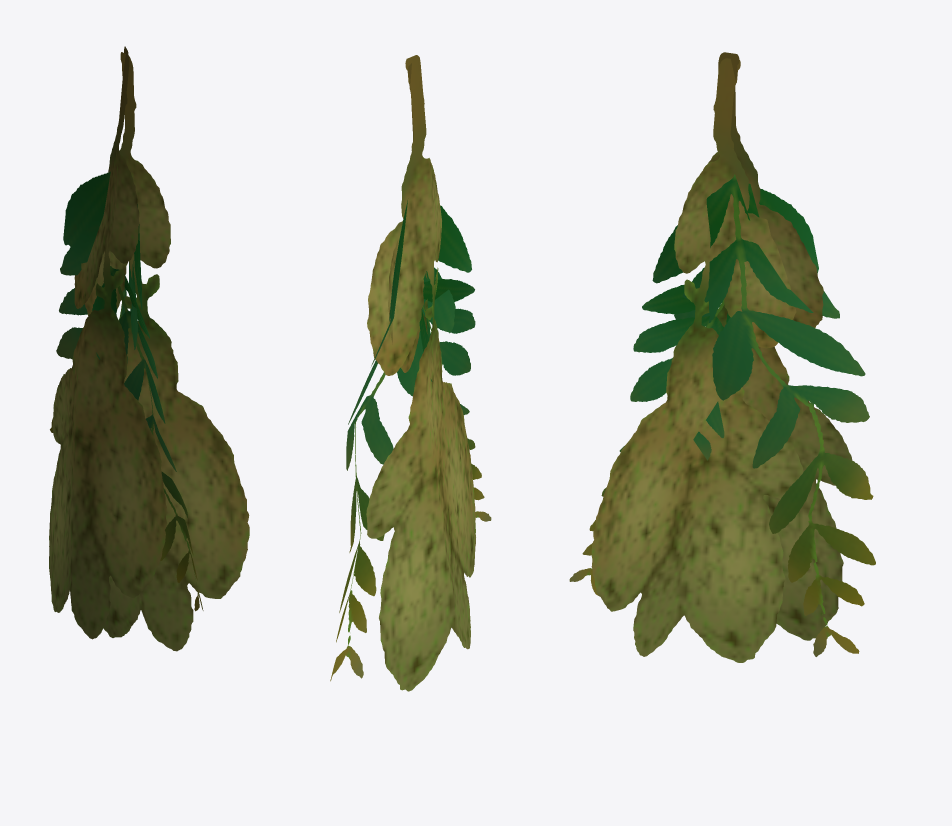
The model's file is Prop_DriedFlower_05.fbx.
3 views of the same model, side by side, from view 1: azimuth 30°, elevation 25°; view 2: azimuth 150°, elevation 25°; view 3: azimuth 270°, elevation 25° (orthographic). The views are drawn at different scales.
Parts seen in each view (by area): view 1: pPlane35; view 2: pPlane35; view 3: pPlane35.
Boxes of the visible parts, <box> form: pPlane35: <box>49,46,249,651</box>; pPlane35: <box>330,55,491,691</box>; pPlane35: <box>569,52,875,662</box>.
Bounding box in the file's own units: 16.07 × 83.28 × 37.23.
